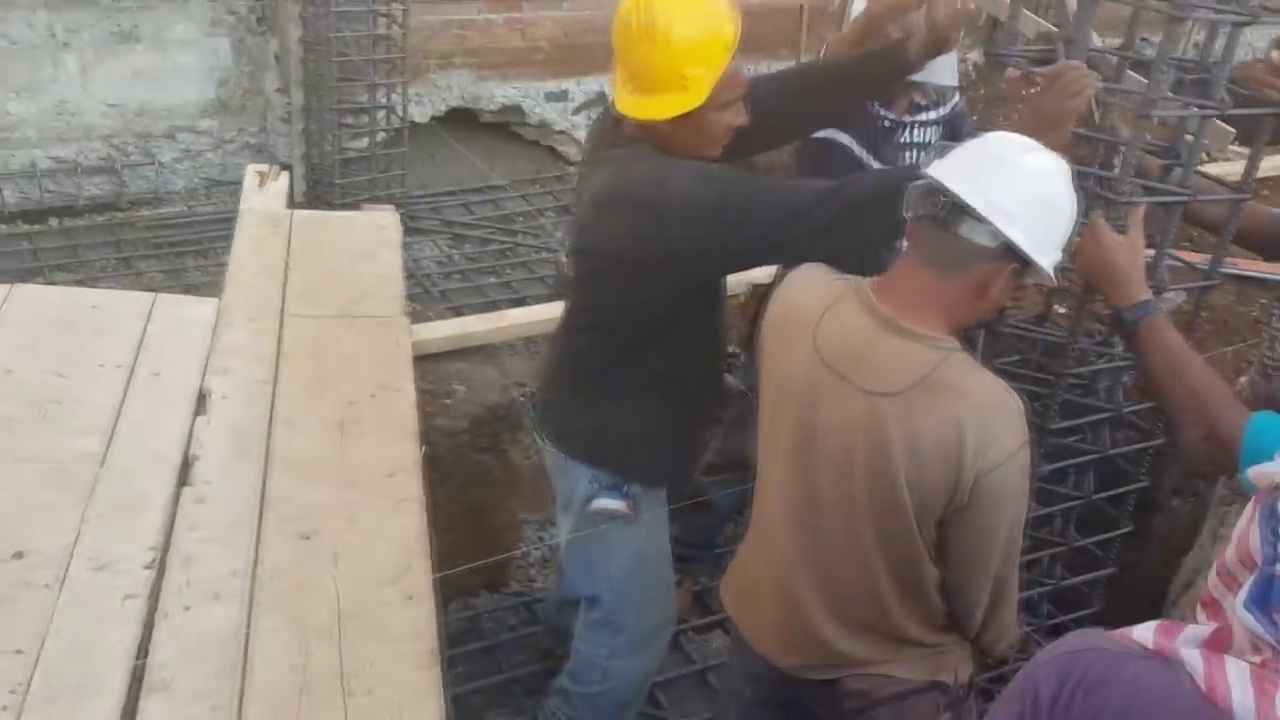helmet: (917, 131, 1083, 294), (608, 3, 748, 122)
helmet-on: (864, 135, 1080, 347), (605, 4, 760, 173)
person: (531, 3, 955, 718), (710, 130, 1080, 720), (990, 453, 1280, 717)
